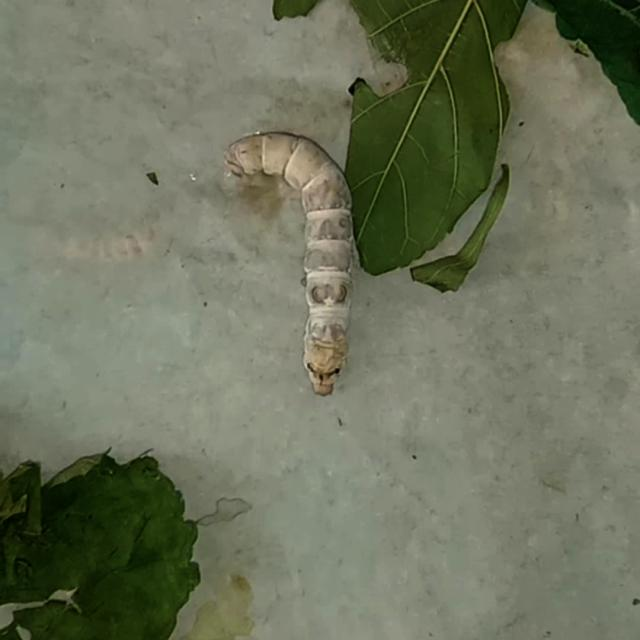Grasserie: (205, 104, 388, 478)
